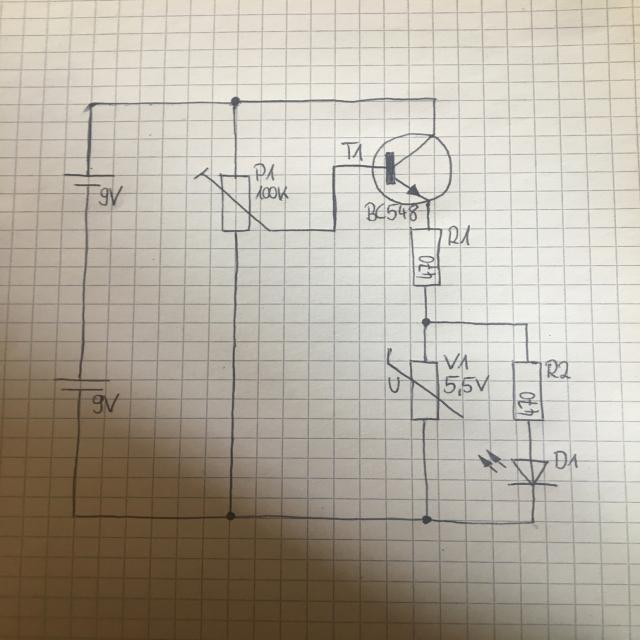diode: (476, 448, 560, 488)
junction: (419, 316, 435, 328), (419, 513, 434, 525), (228, 95, 242, 107), (223, 510, 237, 521), (85, 99, 98, 110), (428, 94, 441, 104), (526, 518, 539, 526), (68, 512, 80, 520), (521, 320, 533, 327), (329, 162, 339, 170), (329, 226, 339, 233)
resistor: (190, 166, 272, 233), (506, 356, 546, 424), (407, 225, 442, 288)
source: (48, 377, 114, 392), (60, 172, 117, 186)
text: (440, 373, 490, 397), (363, 201, 418, 222), (514, 390, 540, 418), (90, 392, 121, 415), (551, 448, 581, 471), (252, 184, 290, 202), (96, 184, 124, 206), (414, 254, 438, 279), (445, 224, 472, 246), (544, 358, 572, 379), (340, 140, 366, 161), (442, 351, 469, 371), (252, 161, 276, 181), (385, 375, 403, 394)
transistor: (369, 130, 453, 206)
